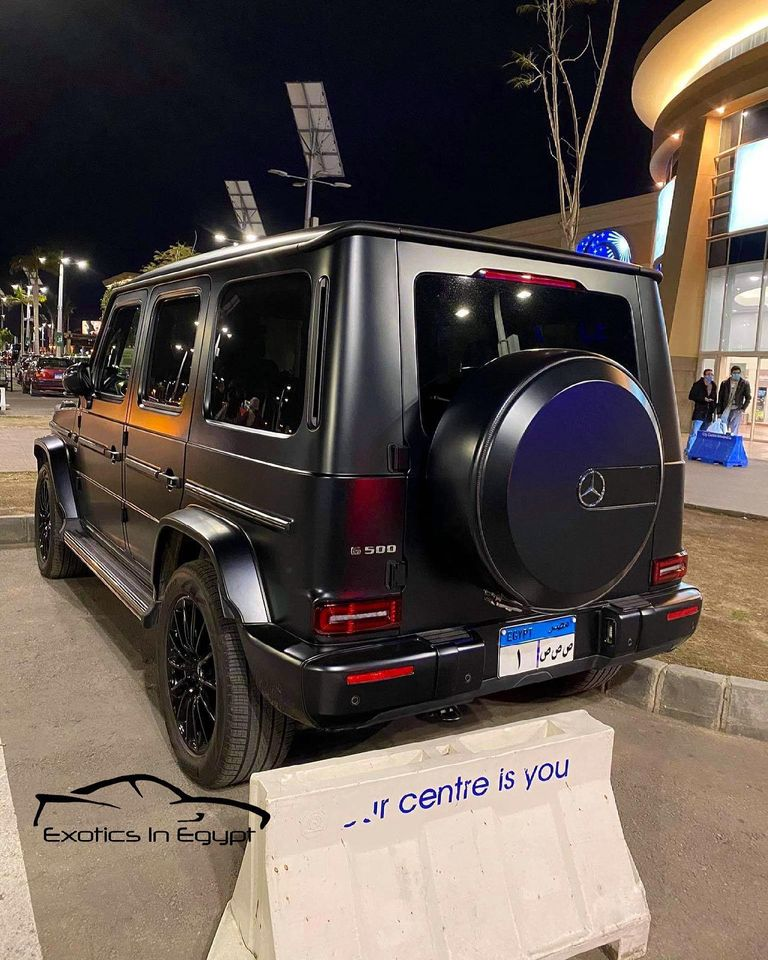carpl: (492, 615, 586, 671)
